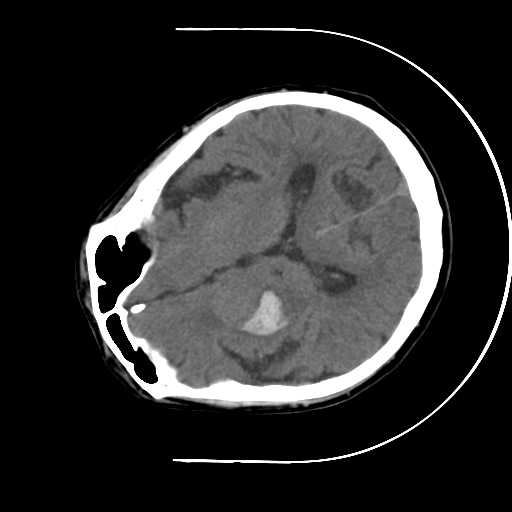a: (219, 274, 309, 349)
